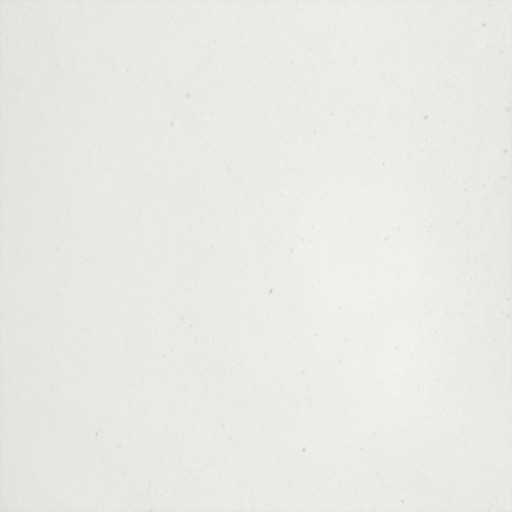lego: (205, 242, 307, 273)
